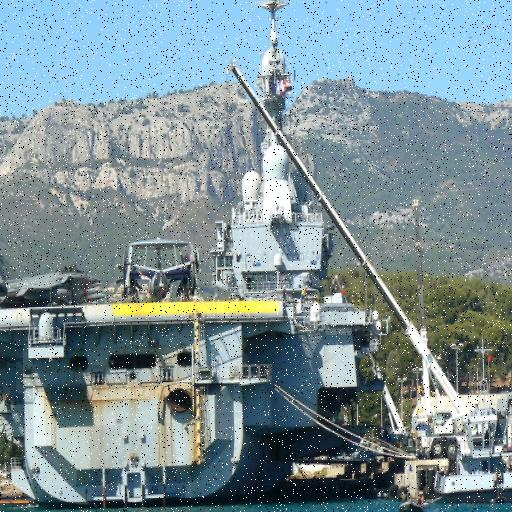Portanaves: (1, 1, 396, 512)
